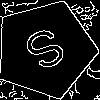S: (20, 24, 76, 81)
